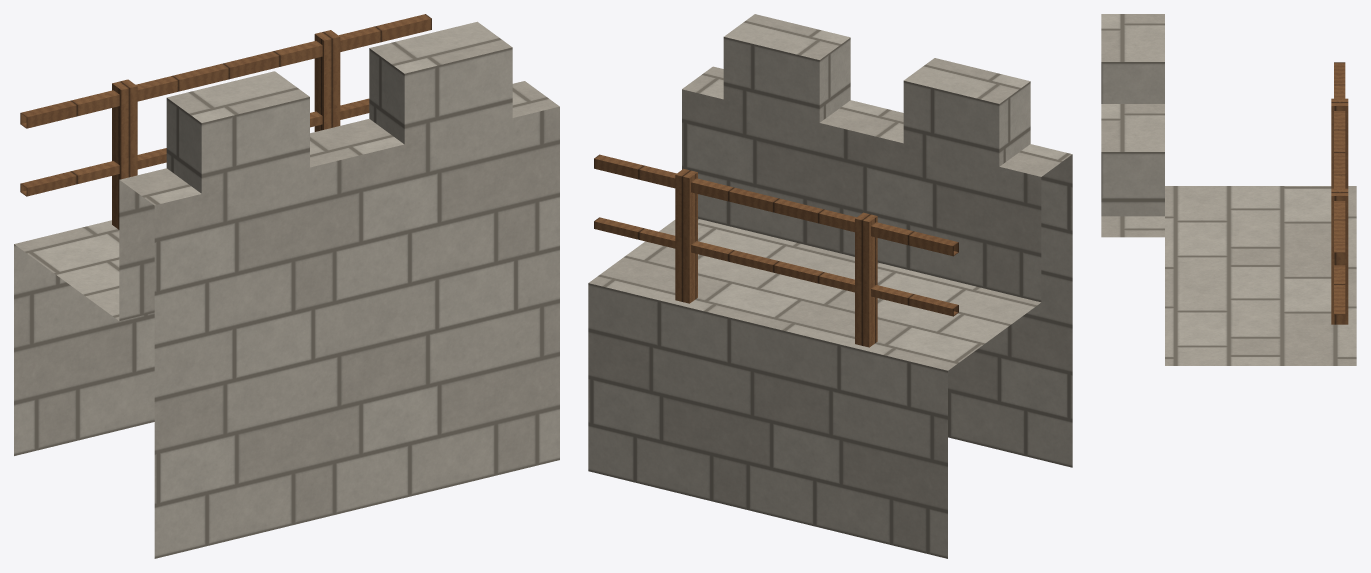
File: Wall_Top.fbx
The picture shows the model from 3 angles, left to right: view 1: azimuth 30°, elevation 25°; view 2: azimuth 150°, elevation 25°; view 3: azimuth 270°, elevation 25°; orthographic projection. The views are drawn at different scales.
Visible parts, largest first — view 1: Wall_Top; view 2: Wall_Top; view 3: Wall_Top.
Part boxes in pixels (x1=…): Wall_Top: x1=14, y1=14, x2=559, y2=558; Wall_Top: x1=588, y1=14, x2=1072, y2=558; Wall_Top: x1=1101, y1=14, x2=1356, y2=365.
Bounding box in the file's own units: 3 × 3 × 1.8.
Materials: 2 (2 with a texture image).
